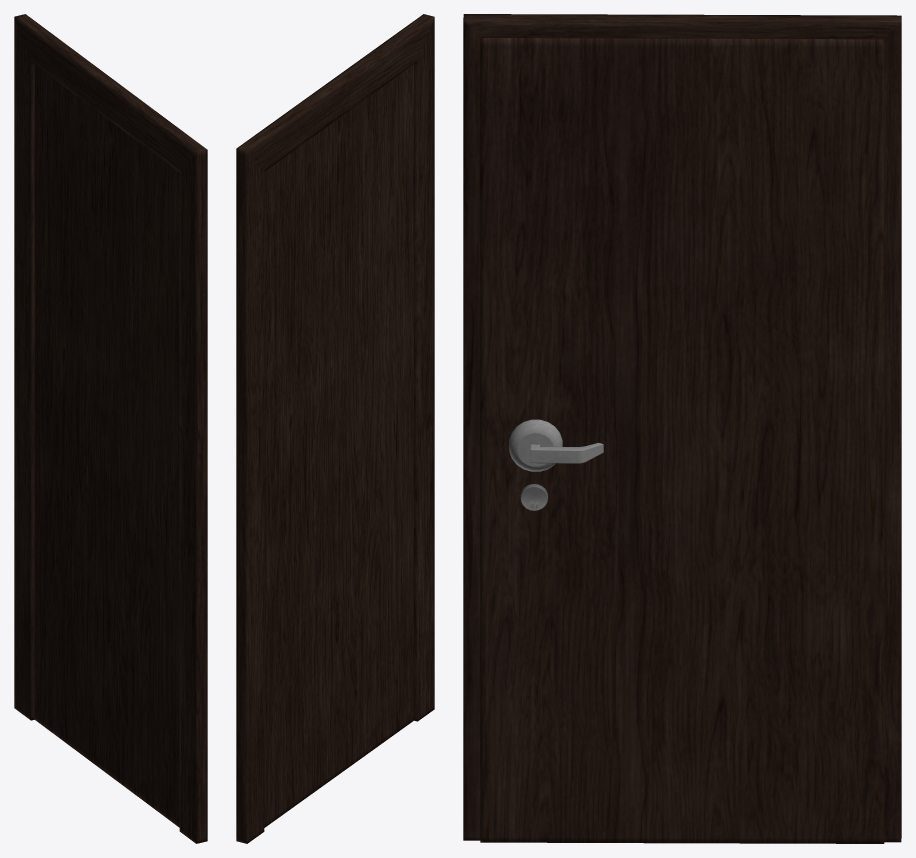
Rendered from SM_102_Door.fbx.
3 renders of one model, left to right at view 1: azimuth 30°, elevation 25°; view 2: azimuth 150°, elevation 25°; view 3: azimuth 270°, elevation 25°, orthographic. The views are drawn at different scales.
Visible parts, largest first — view 1: SM_102_Door; view 2: SM_102_Door; view 3: SM_102_Door.
Boxes of the visible parts, x1=… form: SM_102_Door: x1=14, y1=14, x2=207, y2=843; SM_102_Door: x1=236, y1=14, x2=434, y2=843; SM_102_Door: x1=463, y1=14, x2=901, y2=843.
Size of the model in its own units: 12.08 by 107 by 222.
Materials: 1 (1 with a texture image).
